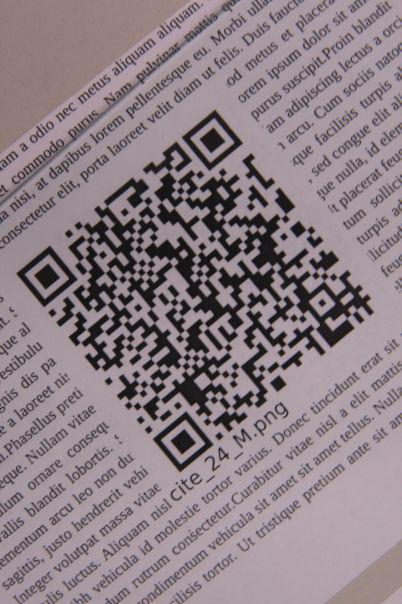qr_code: (16, 110, 378, 473)
